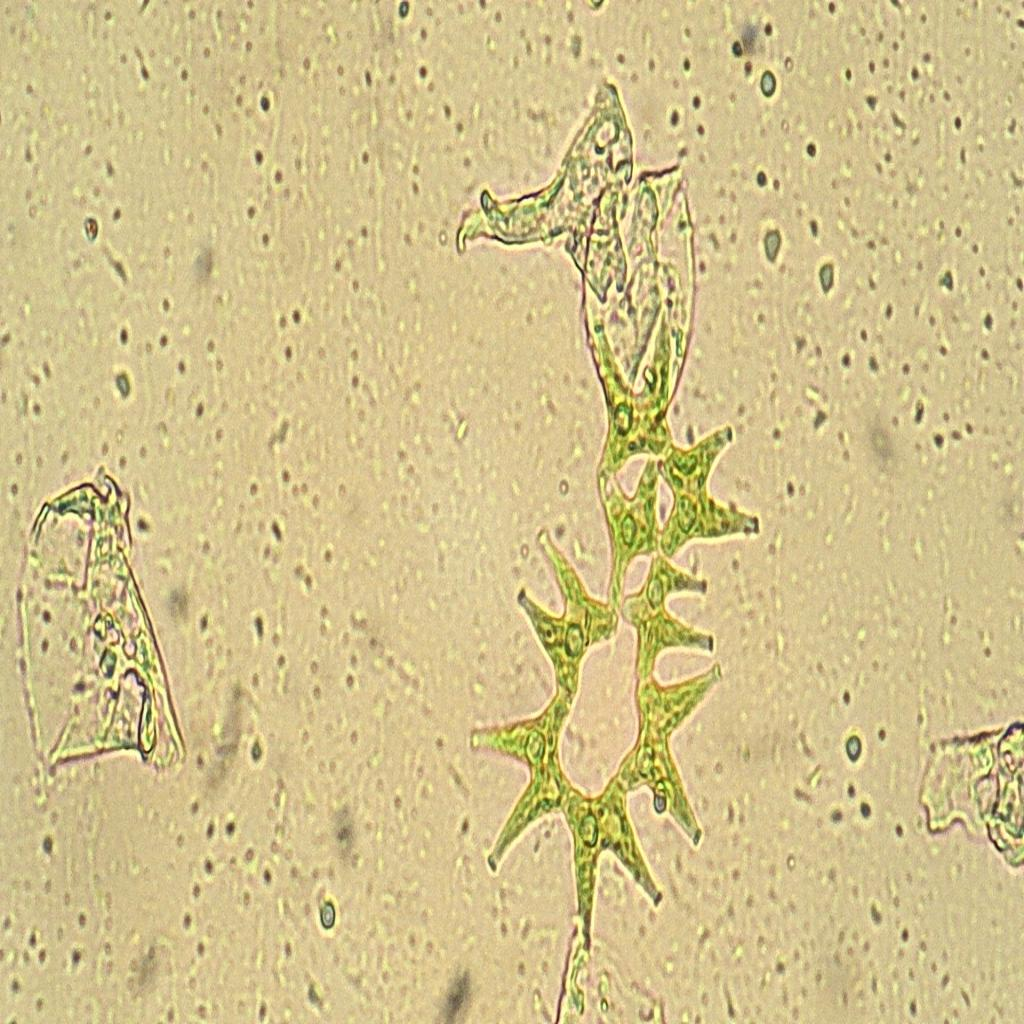Pediastrum_1TH: (459, 298, 765, 973)
